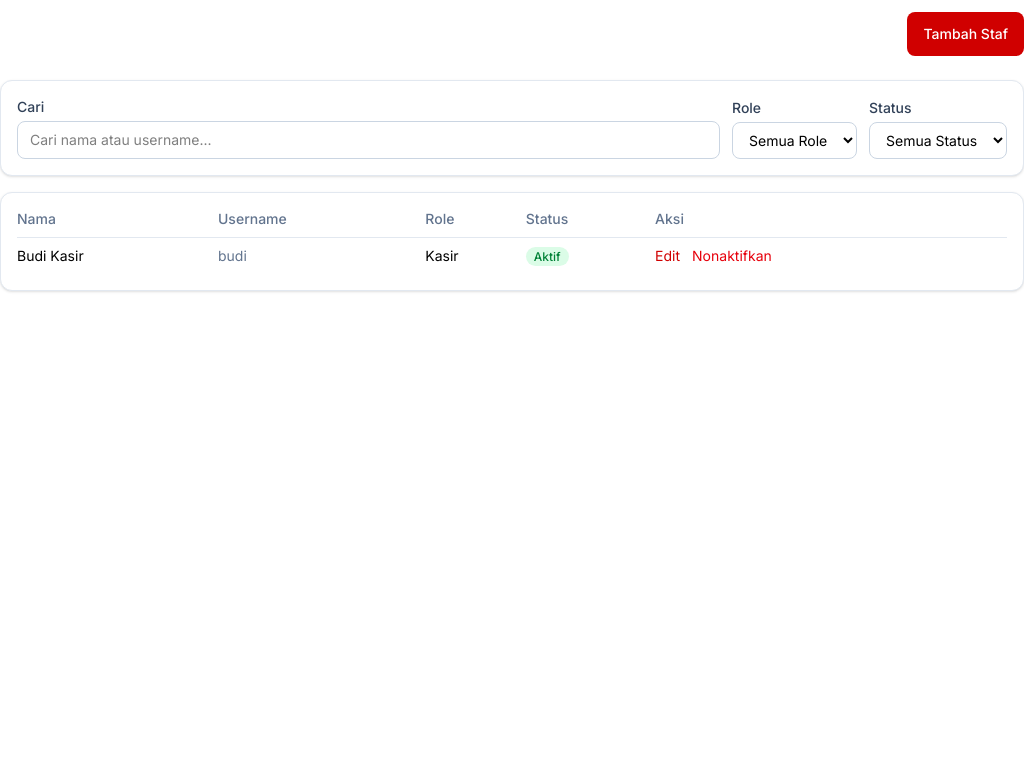
Test: StaffPage › tombol Batal di form balik ke list tanpa nyimpen apa-apa
Check: the text "Budi Kasir" is shown, box 17,238 -> 218,274
Step 1. Click the button "Tambah Staf" → point(966, 34), box 908,12 -> 1024,56
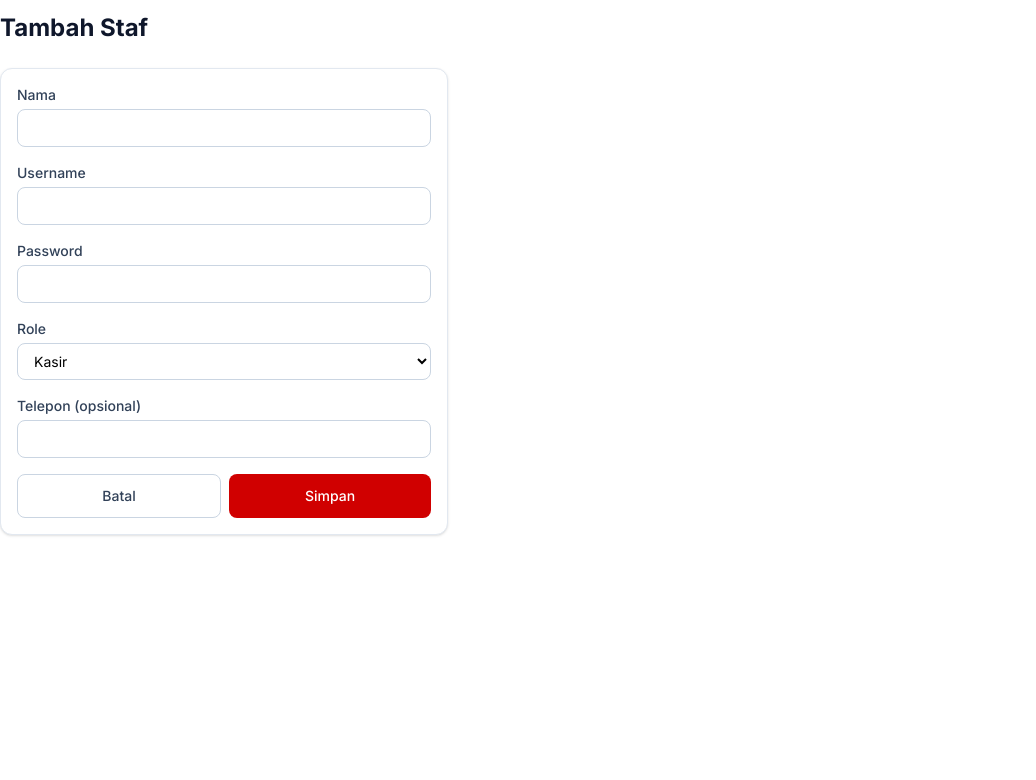
Step 2. Click the button "Batal" → point(119, 496), box 17,474 -> 221,518
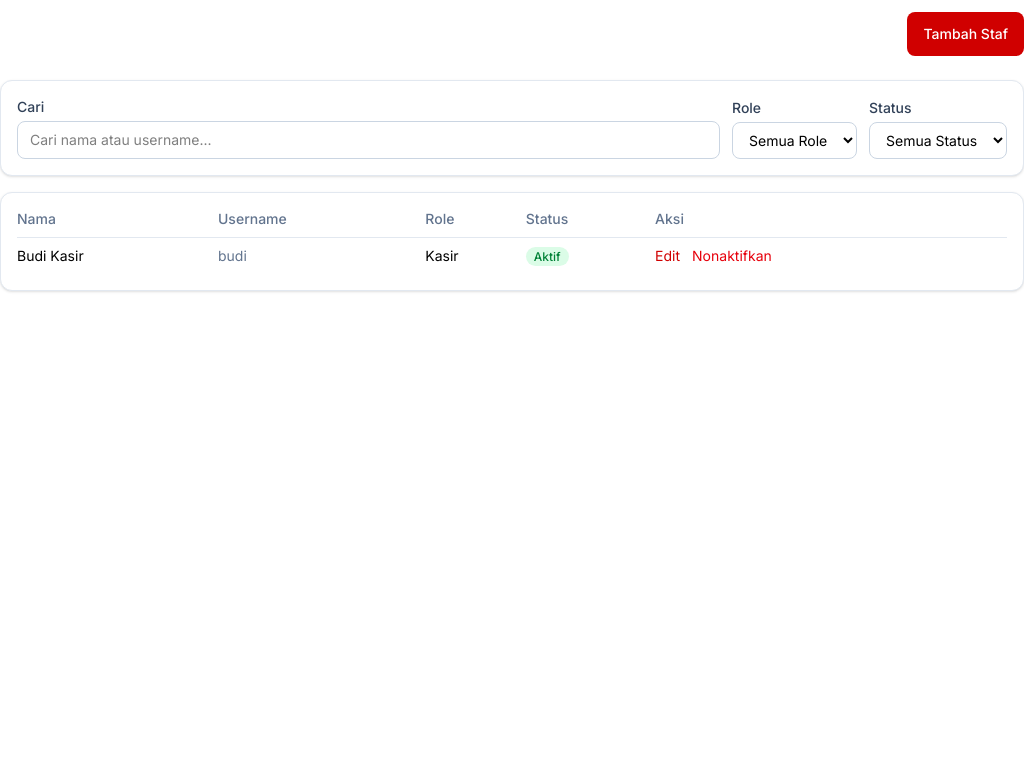
Check: the text "Budi Kasir" is shown, box 17,238 -> 218,274
